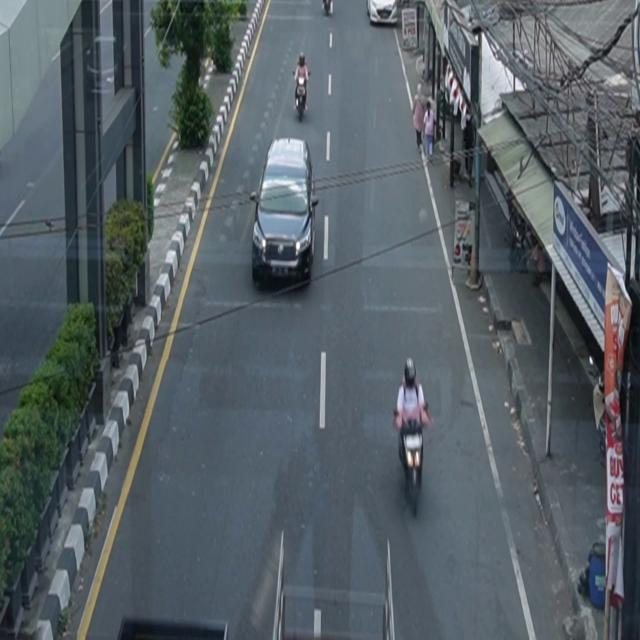car: (250, 137, 320, 285), (367, 1, 399, 27)
